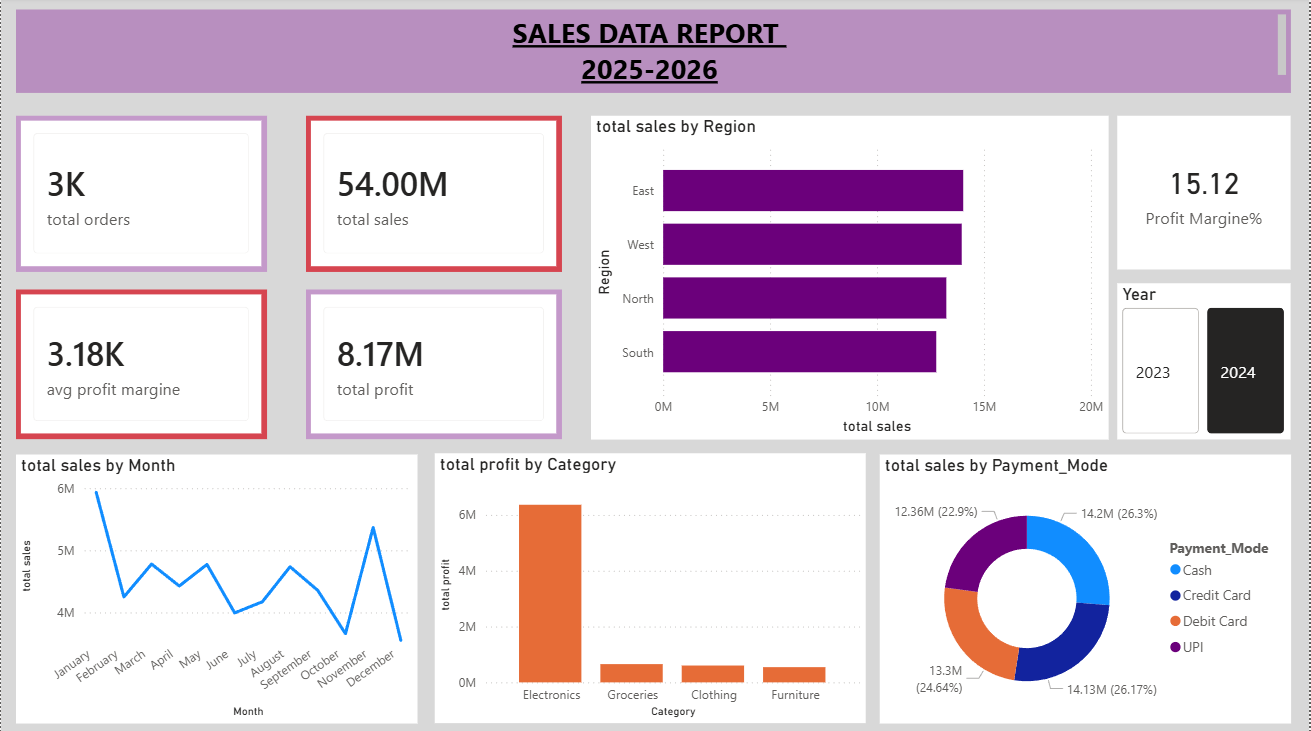

The dashboard page shown, as its layout file describes it:
{"tool":"powerbi","page":{"name":"Page 1","canvas":[1280,720],"ordinal":0},"visuals":[{"type":"textbox","box":[14.7,12.2,1247.3,81.9],"z":0},{"type":"barChart","fields":{"Category":["Advanced_Sales_Dataset_5000_Rows.Region"],"Y":["Advanced_Sales_Dataset_5000_Rows.total sales"]},"box":[577.2,116.2,506.3,316.7],"z":1000},{"type":"lineChart","fields":{"Category":["Advanced_Sales_Dataset_5000_Rows.Order_Date.Variation.Date Hierarchy.Month"],"Y":["Advanced_Sales_Dataset_5000_Rows.total sales"]},"box":[14.7,447.6,392.5,262.9],"z":2000},{"type":"donutChart","fields":{"Category":["Advanced_Sales_Dataset_5000_Rows.Payment_Mode"],"Y":["Advanced_Sales_Dataset_5000_Rows.total sales"]},"box":[859.7,447.6,402.3,262.9],"z":3000},{"type":"columnChart","fields":{"Category":["Advanced_Sales_Dataset_5000_Rows.Category"],"Y":["Advanced_Sales_Dataset_5000_Rows.total profit"]},"box":[424.3,446.3,421.9,264.1],"z":4000},{"type":"cardVisual","fields":{"Data":["Advanced_Sales_Dataset_5000_Rows.total orders"]},"box":[14.7,116.2,245.8,152.9],"z":5000},{"type":"cardVisual","fields":{"Data":["Advanced_Sales_Dataset_5000_Rows.total profit"]},"box":[298.4,286.1,250.7,146.7],"z":6000},{"type":"cardVisual","fields":{"Data":["Advanced_Sales_Dataset_5000_Rows.avg profit margine"]},"box":[14.7,286.1,245.8,146.7],"z":7000},{"type":"cardVisual","fields":{"Data":["Advanced_Sales_Dataset_5000_Rows.total sales"]},"box":[298.4,116.2,250.7,152.9],"z":8000},{"type":"advancedSlicerVisual","fields":{"Values":["Advanced_Sales_Dataset_5000_Rows.Order_Date.Variation.Date Hierarchy.Year"]},"box":[1092,280,170,152.9],"z":9000},{"type":"card","title":"Profit Margin%","fields":{"Values":["Advanced_Sales_Dataset_5000_Rows.margine"]},"box":[1092,116.2,170,150.4],"z":10000}]}

Visuals, with their boxes in screenshot pixels (x1, y1, x2, y2), scaled from the page's 1280x720 canvas onto the 1311x731 screenshot:
textbox: region(15, 12, 1293, 96)
barChart - Advanced_Sales_Dataset_5000_Rows.Region x Advanced_Sales_Dataset_5000_Rows.total sales: region(591, 118, 1110, 440)
lineChart - Advanced_Sales_Dataset_5000_Rows.Order_Date.Variation.Date Hierarchy.Month x Advanced_Sales_Dataset_5000_Rows.total sales: region(15, 454, 417, 721)
donutChart - Advanced_Sales_Dataset_5000_Rows.Payment_Mode x Advanced_Sales_Dataset_5000_Rows.total sales: region(881, 454, 1293, 721)
columnChart - Advanced_Sales_Dataset_5000_Rows.Category x Advanced_Sales_Dataset_5000_Rows.total profit: region(435, 453, 867, 721)
cardVisual - Advanced_Sales_Dataset_5000_Rows.total orders: region(15, 118, 267, 273)
cardVisual - Advanced_Sales_Dataset_5000_Rows.total profit: region(306, 290, 562, 439)
cardVisual - Advanced_Sales_Dataset_5000_Rows.avg profit margine: region(15, 290, 267, 439)
cardVisual - Advanced_Sales_Dataset_5000_Rows.total sales: region(306, 118, 562, 273)
advancedSlicerVisual - Advanced_Sales_Dataset_5000_Rows.Order_Date.Variation.Date Hierarchy.Year: region(1118, 284, 1293, 440)
"Profit Margin%" card: region(1118, 118, 1293, 271)
